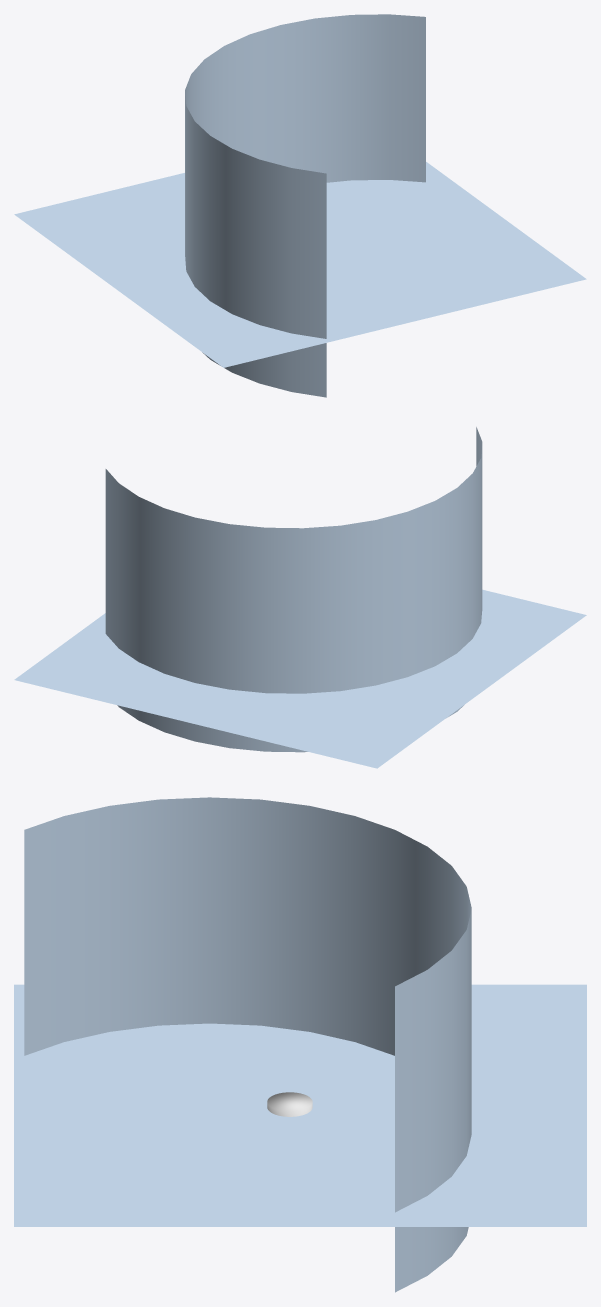
File: bluestage.glb
The picture shows the model from 3 angles, top to bottom: view 1: azimuth 30°, elevation 25°; view 2: azimuth 150°, elevation 25°; view 3: azimuth 270°, elevation 25°; orthographic projection. The views are drawn at different scales.
Visible parts, largest first — view 1: Cylinder002, Plane; view 2: Cylinder002, Plane; view 3: Cylinder002, Plane, Cylinder.
Boxes of the visible parts, bbox=[...] form: Cylinder002: bbox=[185, 14, 425, 397]; Plane: bbox=[14, 162, 586, 367]; Cylinder002: bbox=[105, 427, 482, 752]; Plane: bbox=[14, 589, 586, 768]; Cylinder002: bbox=[24, 797, 471, 1292]; Plane: bbox=[14, 984, 586, 1226]; Cylinder: bbox=[267, 1092, 312, 1116].
Bounding box in the file's own units: 735 × 433 × 735.
